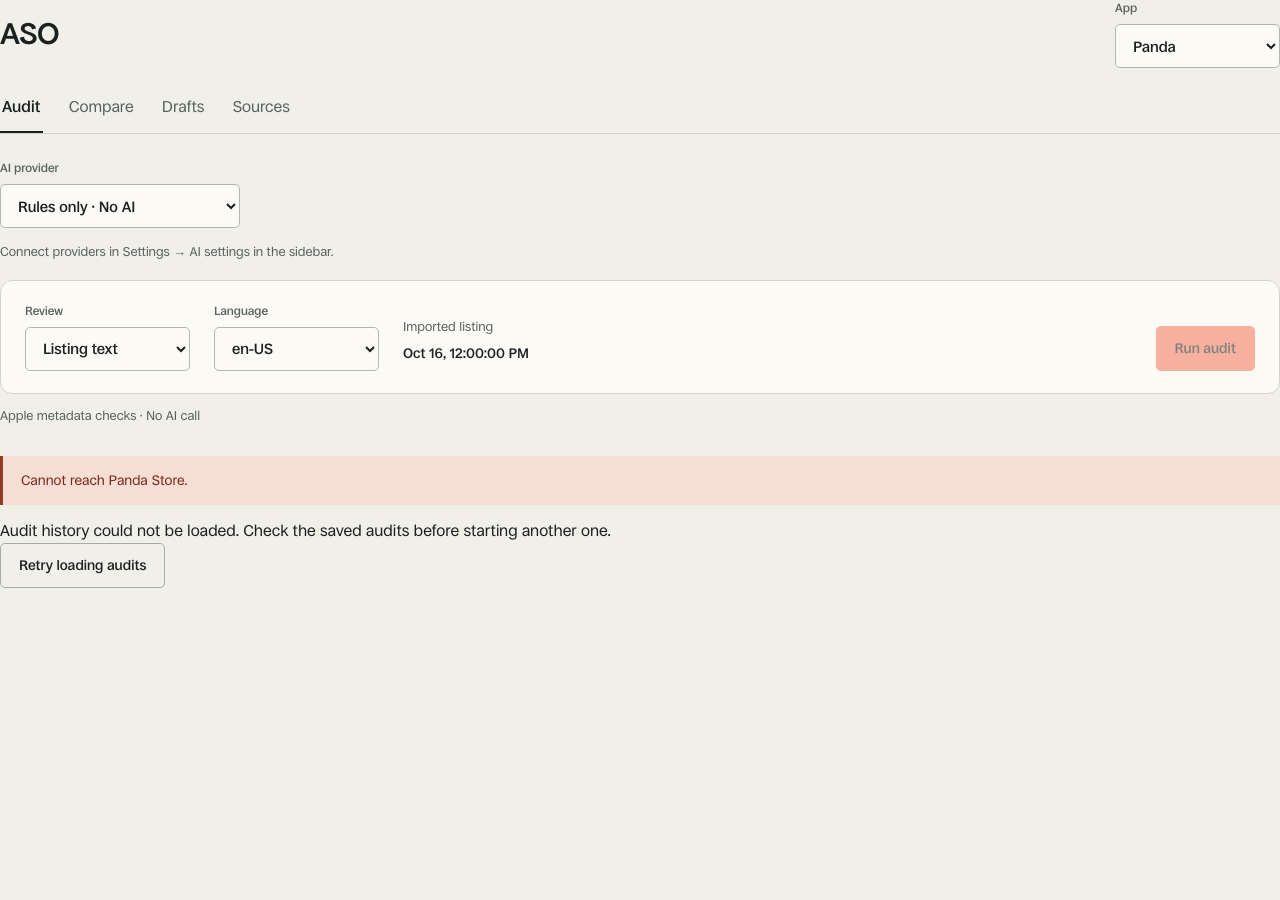
Test: reloads audit history after a server failure without starting another audit
expect the text "Cannot reach Panda Store." is shown: met, box [0,456,1279,505]
expect the button "Run audit" is disabled: met, box [1156,326,1255,370]
Click the button "Retry loading audits" at (83, 566), box [0,543,165,588]
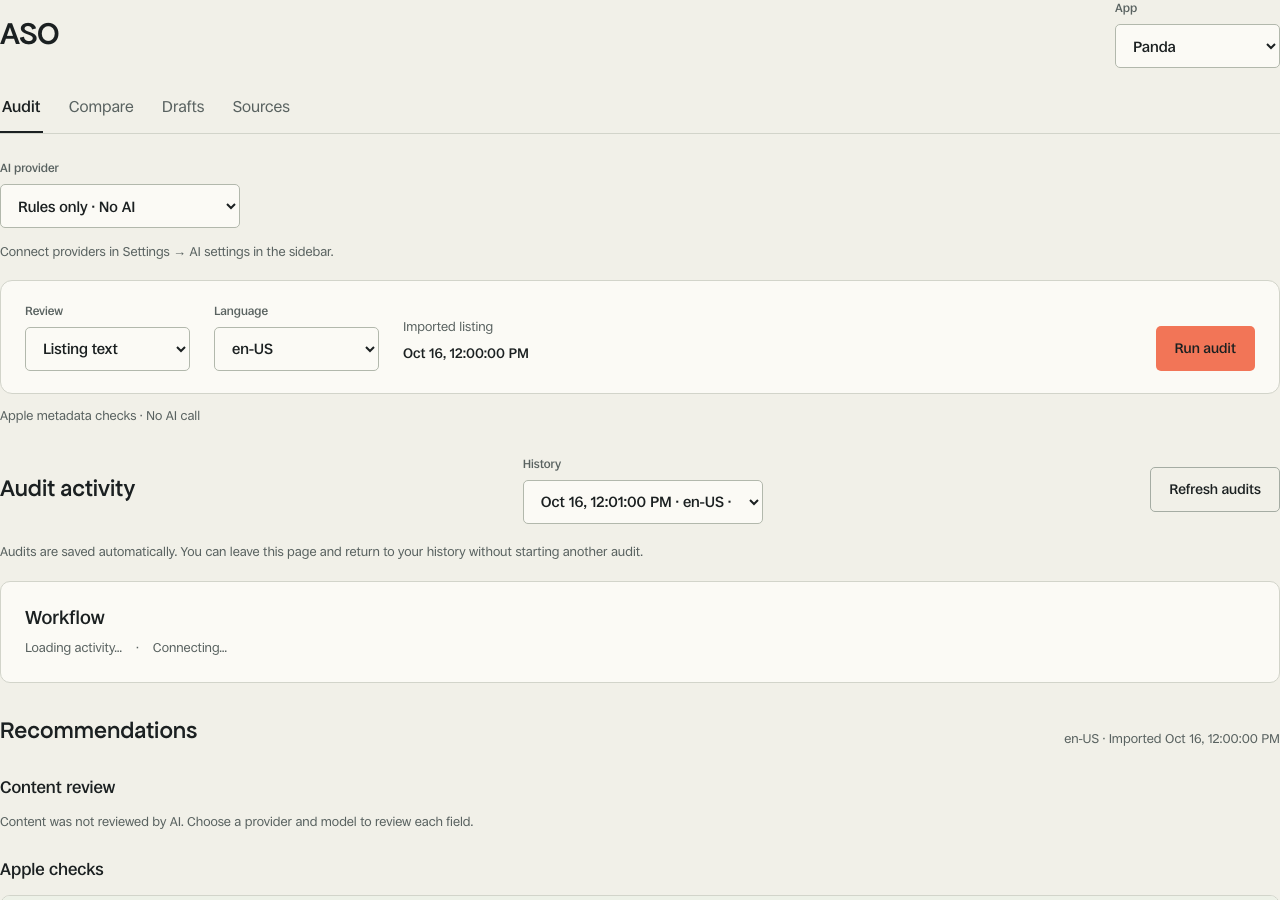
expect the button "Run audit" is enabled: met, box [1156,326,1255,370]
